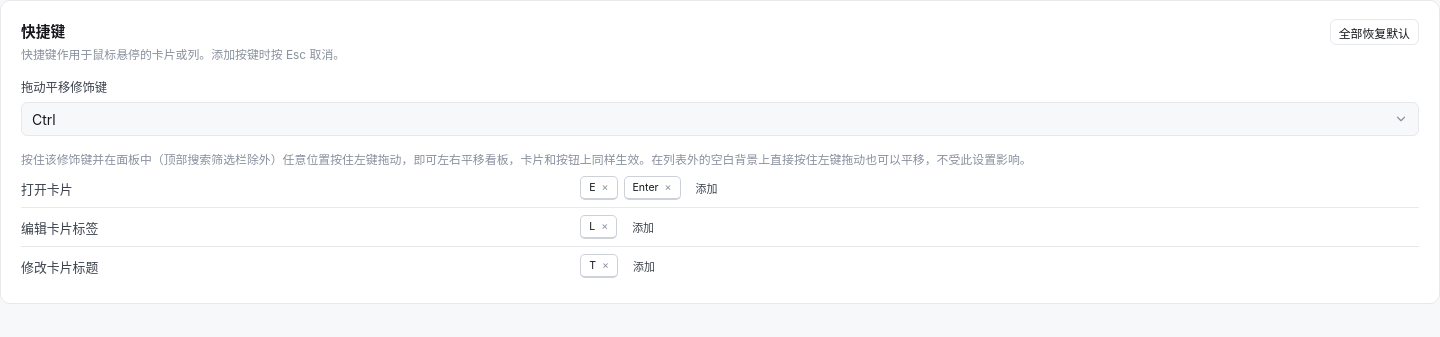
Test: ShortcutSection › 按键已被其他操作使用时提示冲突，不保存
Click the button "添加" in the row of "修改卡片标题" at (644, 266), box [624,253,664,279]
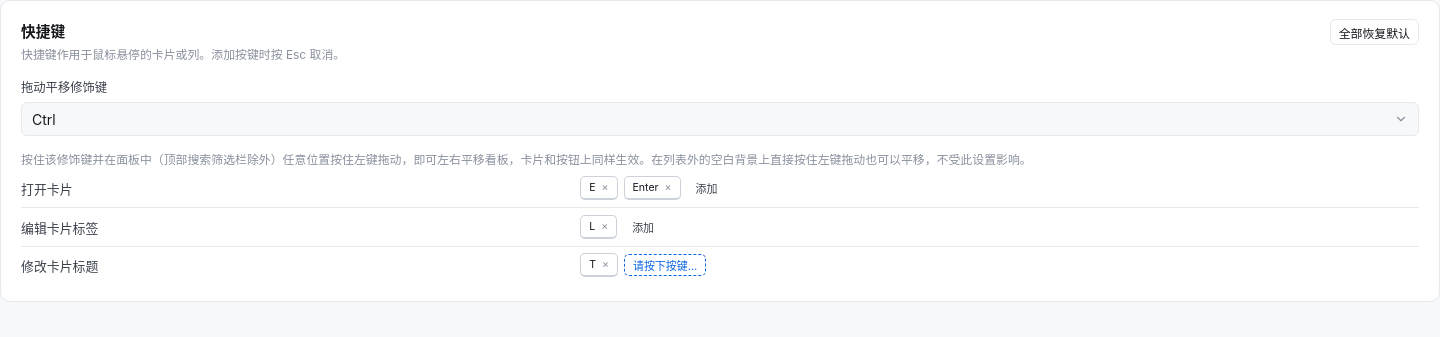
Press KeyL
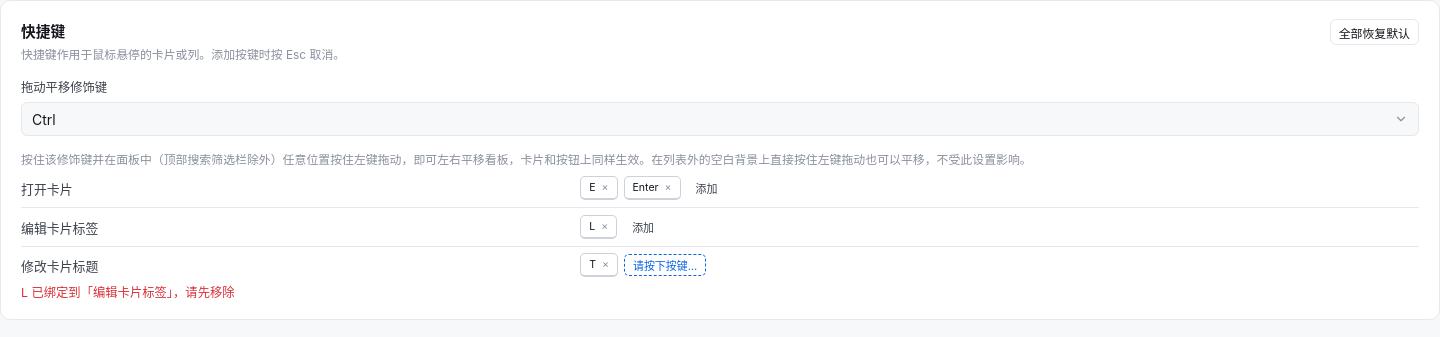
Expected: the text "L 已绑定到「编辑卡片标签」，请先移除" is shown, [21,285,235,300]
